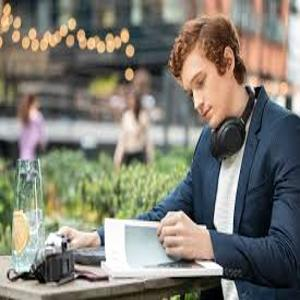Headphones: (206, 82, 256, 159)
